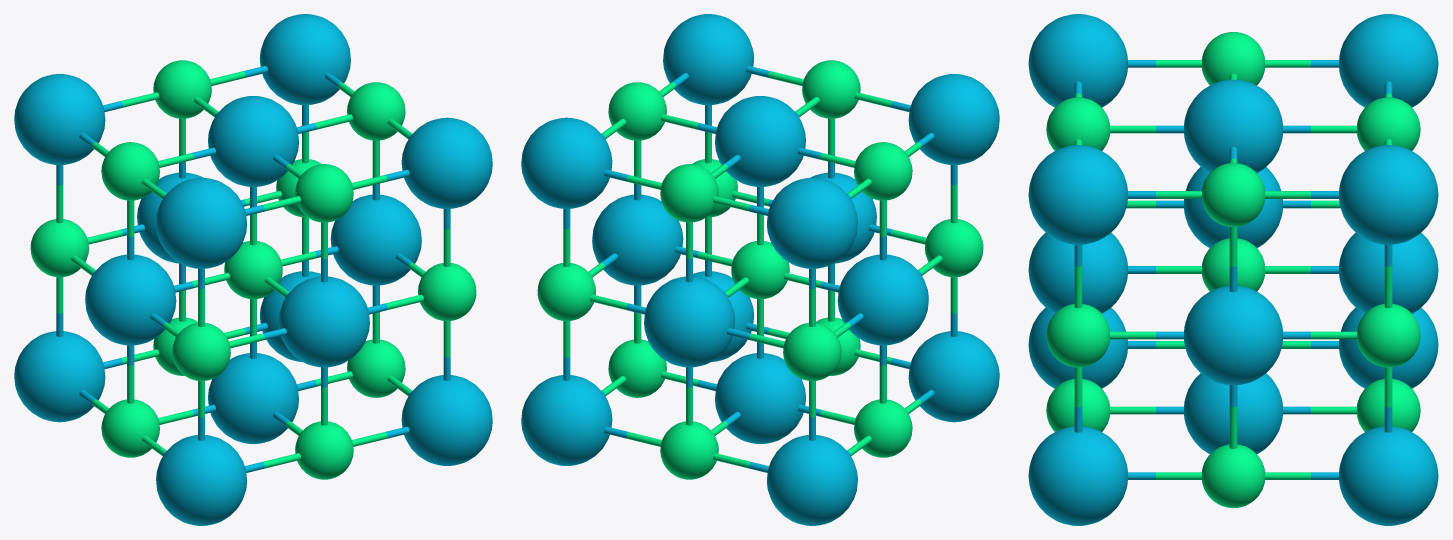
Rendered from sodium-chloride.fbx.
The picture shows the model from 3 angles, left to right: view 1: azimuth 30°, elevation 25°; view 2: azimuth 150°, elevation 25°; view 3: azimuth 270°, elevation 25°; orthographic projection. The views are drawn at different scales.
Parts seen in each view (by area): view 1: Na21, Na22, Na17, Na07, Na24, Na20, Na06, Na27, Na16, Na03, Na04, Na05 (+15 smaller); view 2: Na20, Na27, Na16, Na02, Na25, Na21, Na06, Na22, Na17, Na03, Na04, Na05 (+15 smaller); view 3: Na16, Na17, Na24, Na25, Na04, Na20, Na21, Na03, Na02, Na07, Na05, Na22 (+34 smaller).
Boxes of the visible parts, box(x1,y1,x2,y2) form: Na21: box(156, 177, 246, 268); Na22: box(156, 435, 246, 525); Na17: box(401, 117, 492, 208); Na07: box(278, 276, 369, 367); Na24: box(401, 375, 492, 465); Na20: box(14, 74, 105, 164); Na06: box(85, 254, 176, 345); Na27: box(14, 331, 105, 422); Na16: box(260, 14, 350, 105); Na03: box(208, 96, 298, 186); Na04: box(330, 194, 421, 285); Na05: box(208, 353, 298, 443); Na20: box(767, 177, 857, 268); Na27: box(767, 435, 857, 525); Na16: box(521, 117, 612, 208); Na02: box(644, 276, 735, 367); Na25: box(521, 375, 612, 465); Na21: box(908, 74, 999, 164); Na06: box(837, 254, 928, 345); Na22: box(908, 331, 999, 422); Na17: box(663, 14, 753, 105); Na03: box(715, 96, 805, 186); Na04: box(592, 194, 683, 285); Na05: box(715, 353, 805, 443); Na16: box(1339, 145, 1438, 244); Na17: box(1028, 145, 1127, 244); Na24: box(1028, 426, 1127, 525); Na25: box(1339, 426, 1438, 525); Na04: box(1184, 286, 1282, 385); Na20: box(1339, 14, 1438, 107); Na21: box(1028, 14, 1127, 107); Na03: box(1184, 79, 1282, 172); Na02: box(1339, 232, 1438, 313); Na07: box(1028, 232, 1127, 313); Na05: box(1184, 373, 1282, 453); Na22: box(1028, 307, 1127, 388).
Bounding box in the file's own units: 632 × 632 × 632.
